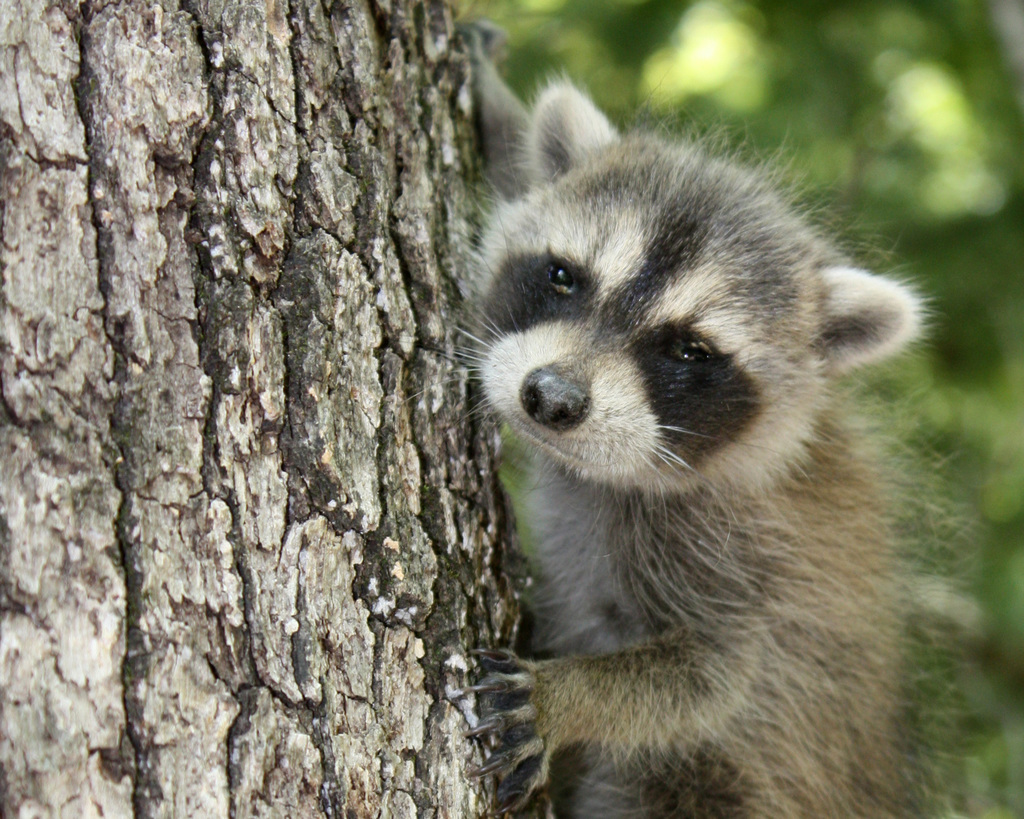raccoon: (448, 19, 940, 819)
